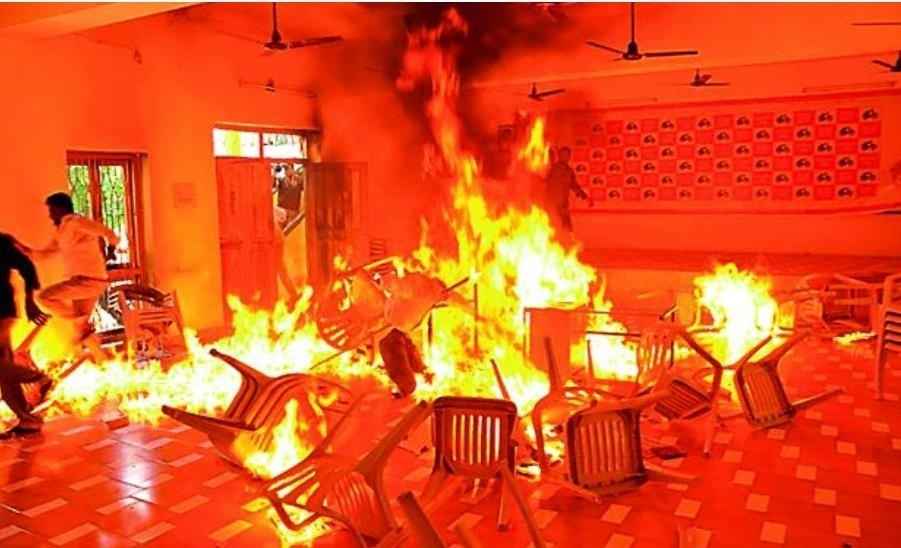fire: (690, 257, 784, 356)
